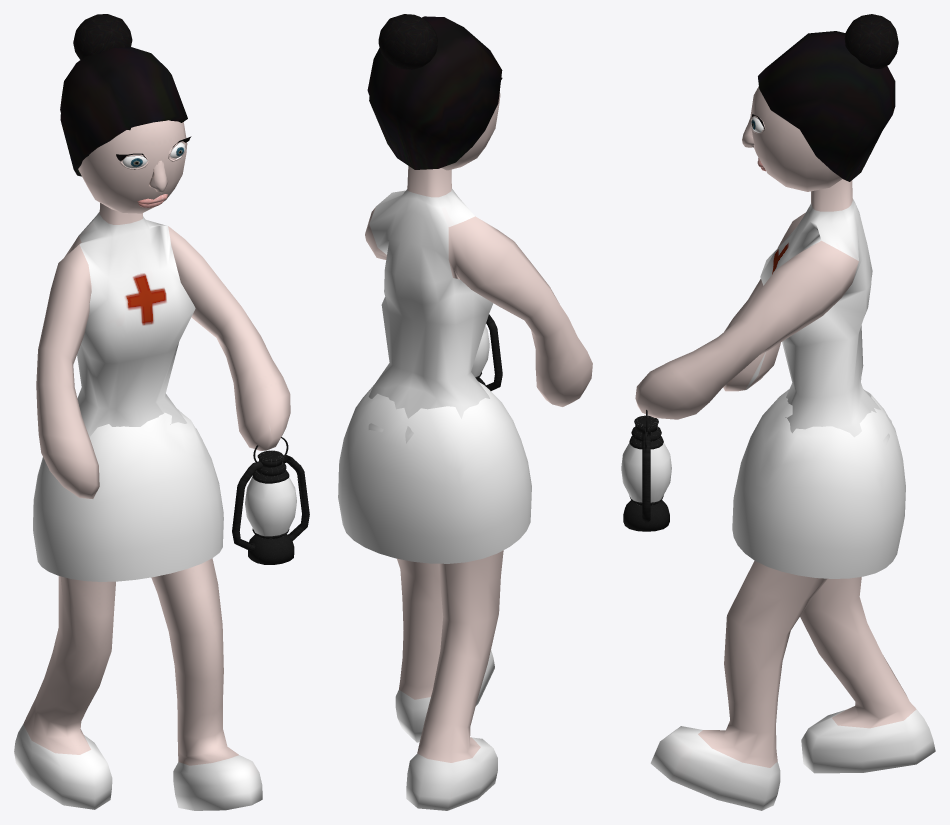
File: walking_000001.obj
3 renders of one model, left to right at view 1: azimuth 30°, elevation 25°; view 2: azimuth 150°, elevation 25°; view 3: azimuth 270°, elevation 25°, orthographic.
Parts seen in each view (by area): view 1: Cube_Cube.001, Cube.001_Cube, Cube.004; view 2: Cube_Cube.001, Cube.001_Cube, Cube.004; view 3: Cube_Cube.001, Cube.001_Cube, Cube.004.
Boxes of the visible parts, x1,y1,x2,y2 form: Cube_Cube.001: (14,14,290,810); Cube.001_Cube: (33,409,223,581); Cube.004: (232,437,309,564); Cube_Cube.001: (365,14,592,810); Cube.001_Cube: (338,381,531,563); Cube.004: (471,314,502,390); Cube_Cube.001: (635,14,935,810); Cube.001_Cube: (732,389,905,578); Cube.004: (621,410,671,531).
Bounding box in the file's own units: 0.6035 × 2.07 × 0.7688.
